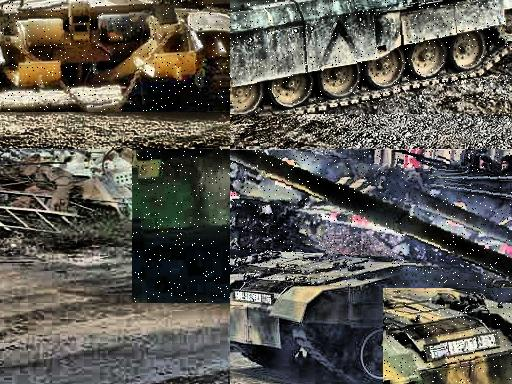tanks: (231, 215, 512, 384), (231, 151, 512, 281), (231, 1, 512, 115), (1, 1, 231, 110), (136, 150, 231, 276), (385, 291, 512, 384), (468, 209, 512, 227)
